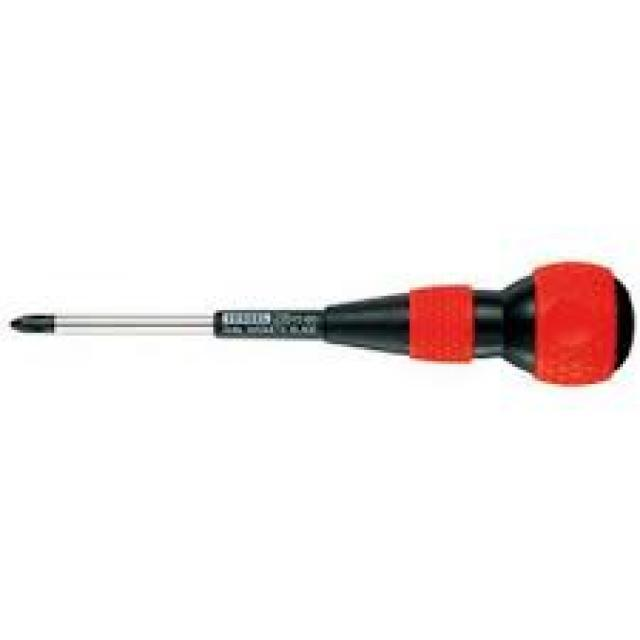screwdriver: (0, 257, 634, 388)
